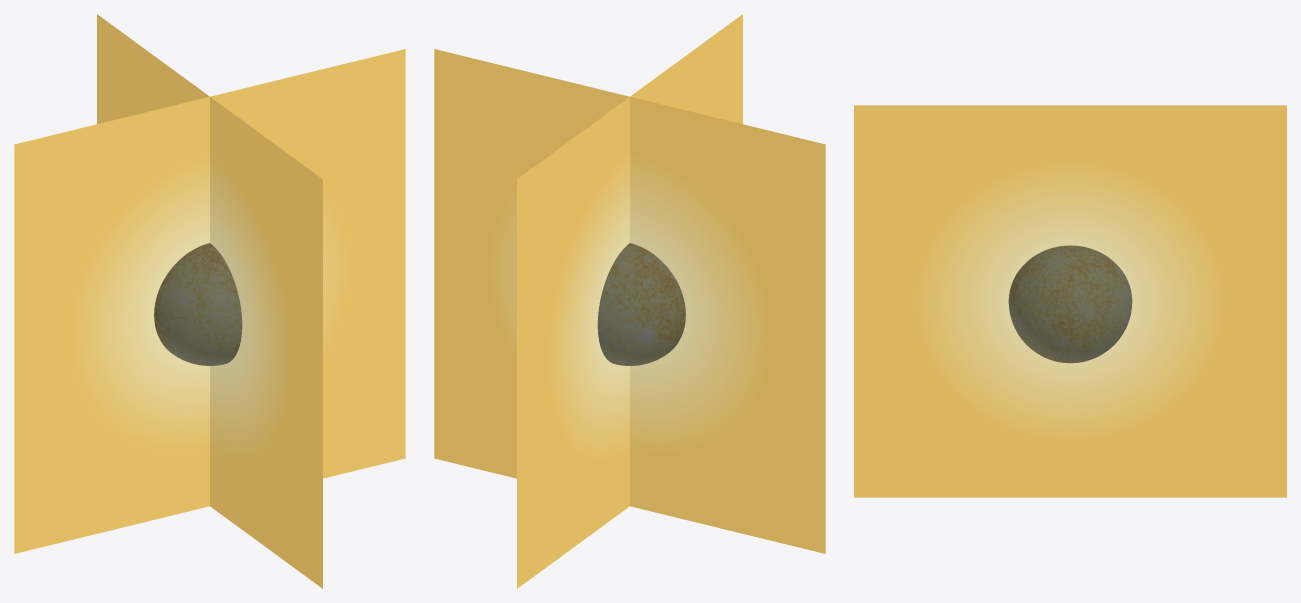
Rendered from Sol espacio.glb.
3 views of the same model, side by side, from view 1: azimuth 30°, elevation 25°; view 2: azimuth 150°, elevation 25°; view 3: azimuth 270°, elevation 25° (orthographic). The views are drawn at different scales.
Parts seen in each view (by area): view 1: Sun_Corona, Sun_Photosphere; view 2: Sun_Corona, Sun_Photosphere; view 3: Sun_Corona, Sun_Photosphere.
Boxes of the visible parts, <box> form: Sun_Corona: <box>14,14,405,588</box>; Sun_Photosphere: <box>154,243,242,365</box>; Sun_Corona: <box>434,14,825,588</box>; Sun_Photosphere: <box>597,243,685,365</box>; Sun_Corona: <box>854,105,1286,497</box>; Sun_Photosphere: <box>1008,245,1132,363</box>.
Bounding box in the file's own units: 7 × 7 × 7.
Materials: 2 (2 with a texture image).
